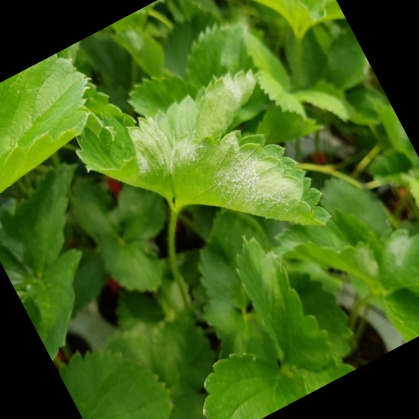Powdery_Leaf: (178, 127, 316, 277), (118, 60, 205, 204), (186, 62, 314, 150)
